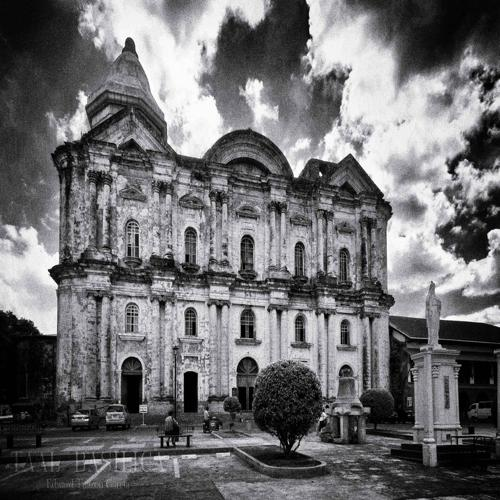Taal Basilica Church: (48, 29, 402, 432)
